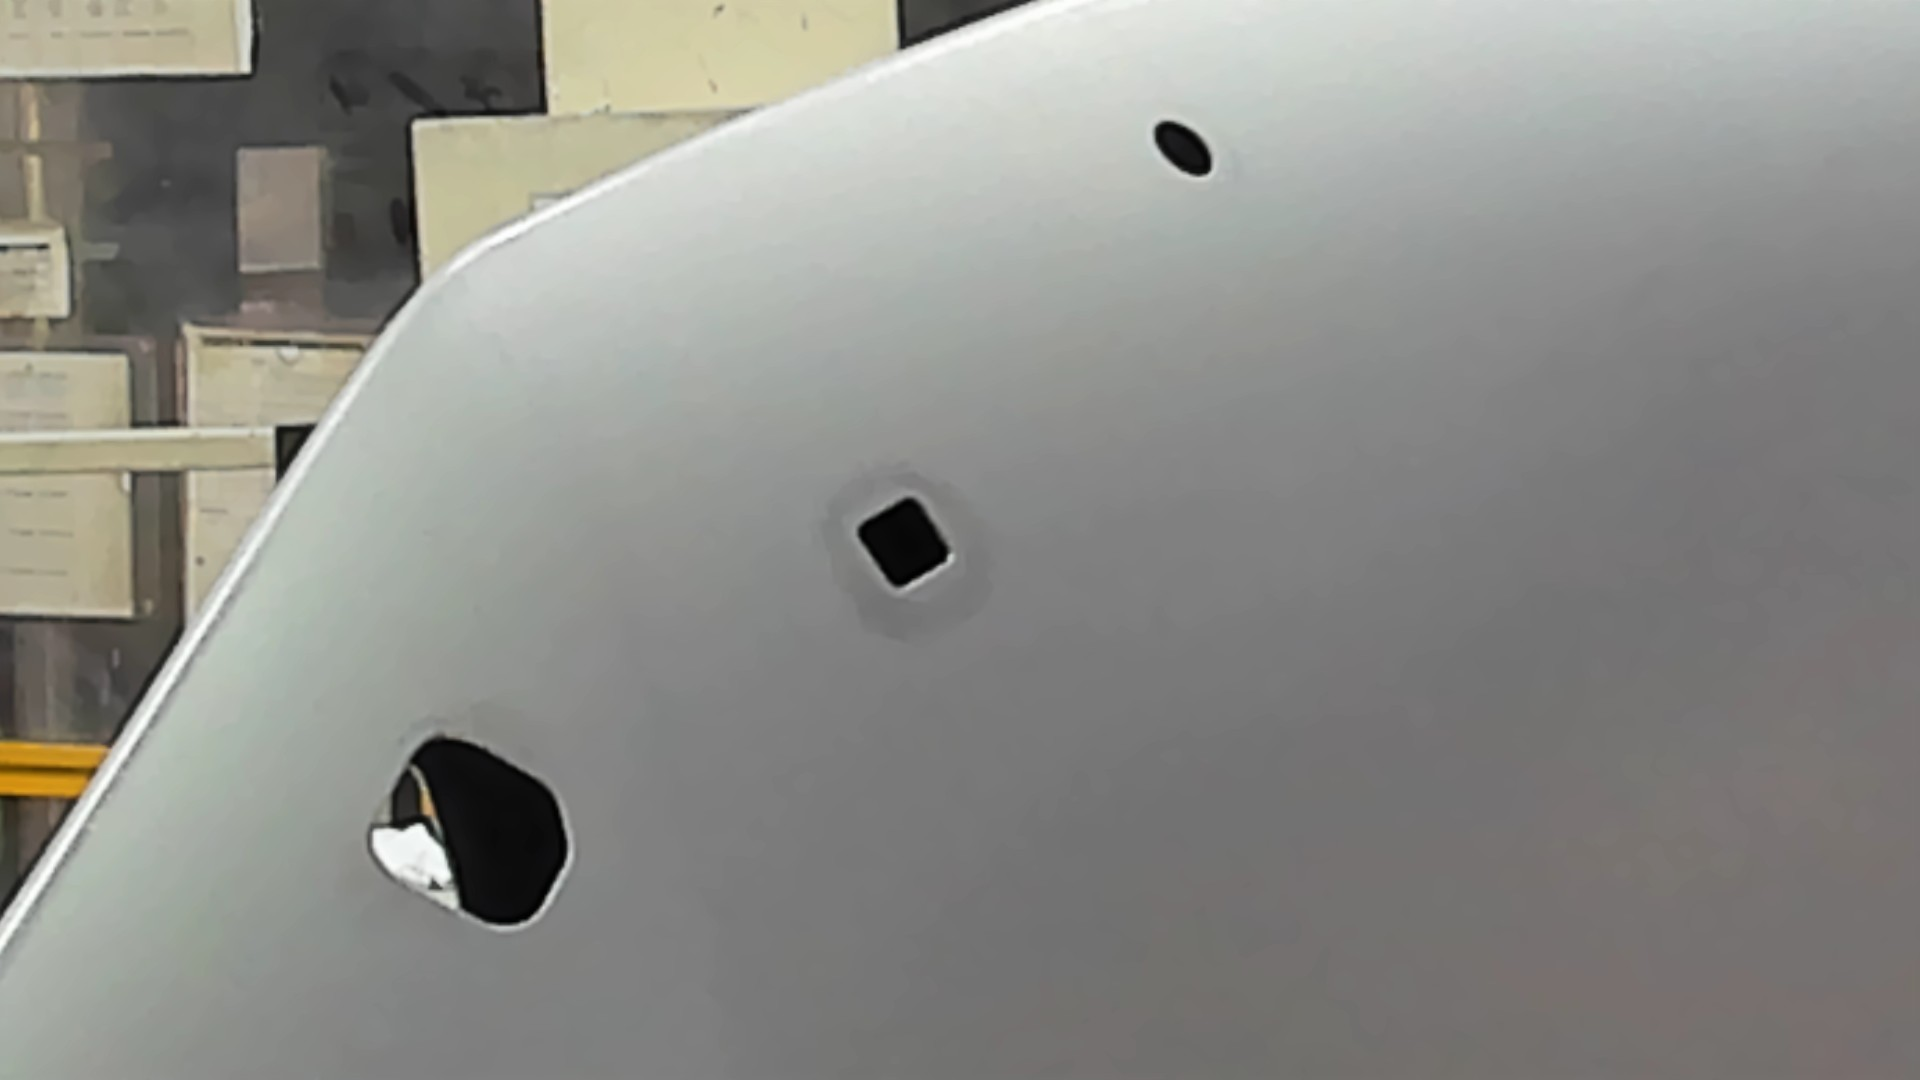capo: (982, 189, 1920, 1080)
chico: (1151, 117, 1215, 179)
grande: (360, 727, 580, 940)
mediano: (851, 491, 964, 601)
